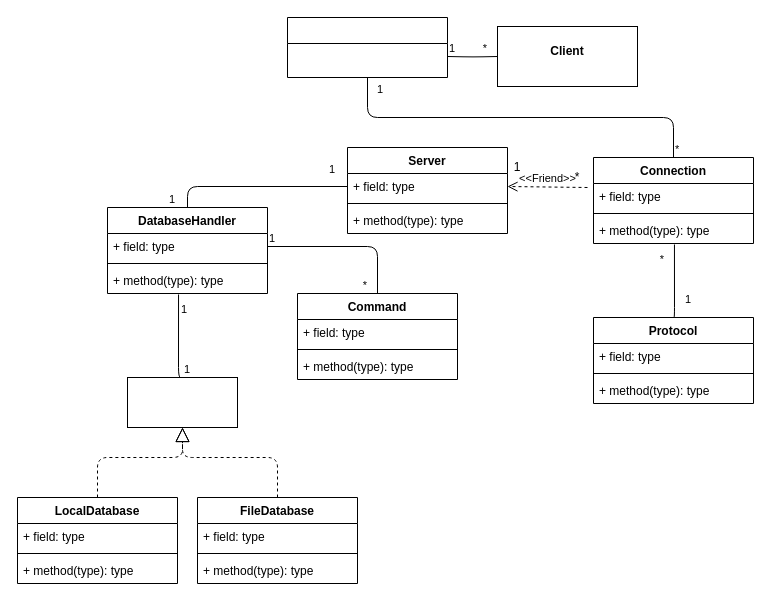
The diagram is 771 pixels wide and 604 high, and some of its shapes have lost their labels. Each missing label, with the centre of its shape:
"MessageHandler" goes at pixel 367 47.
"«interface» Database" goes at pixel 182 402.
